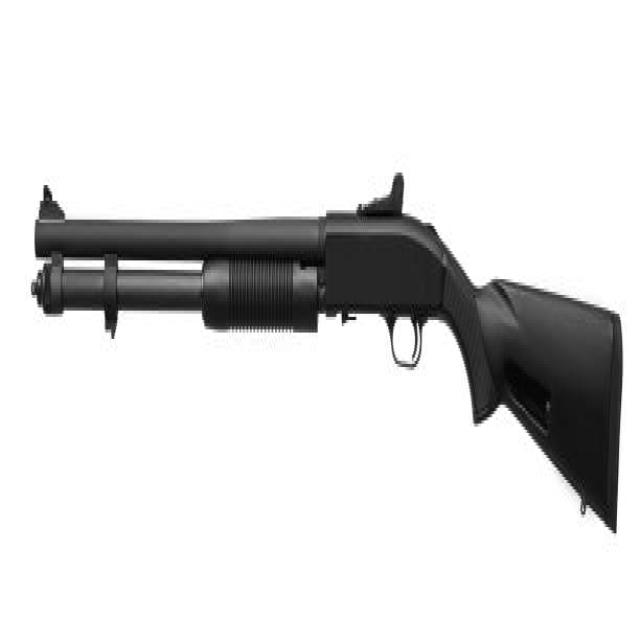rifle: (23, 151, 630, 546)
